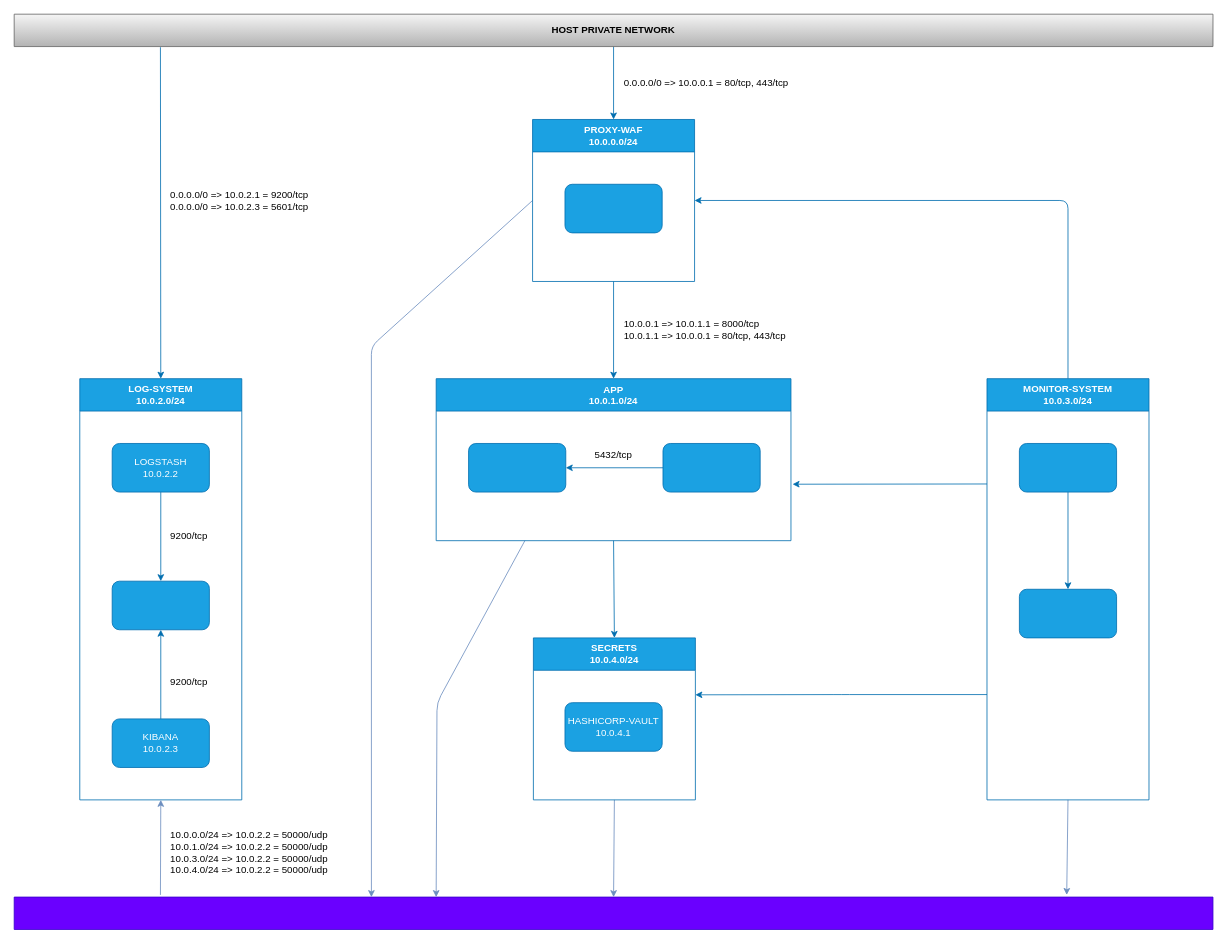
Image size: 1227x944. Some labels were removed from this diagram. Here are the shapes that lost their labels. From the top down, the centre of each, then its label:
point (613, 208): NGINX 10.0.0.1
point (517, 467): POSTGRES 10.0.1.2
point (711, 467): DJANGO 10.0.1.1
point (160, 605): ELASTICSEARCH 10.0.2.1
point (613, 912): DOCKER ENGINE
